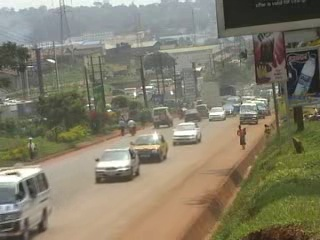Car: (88, 145, 141, 184), (128, 131, 168, 164), (168, 120, 202, 150), (150, 104, 176, 129), (207, 104, 227, 122), (183, 109, 204, 125), (219, 103, 237, 118), (193, 104, 210, 118)
Motorcycle: (124, 117, 139, 137), (176, 104, 187, 119)
